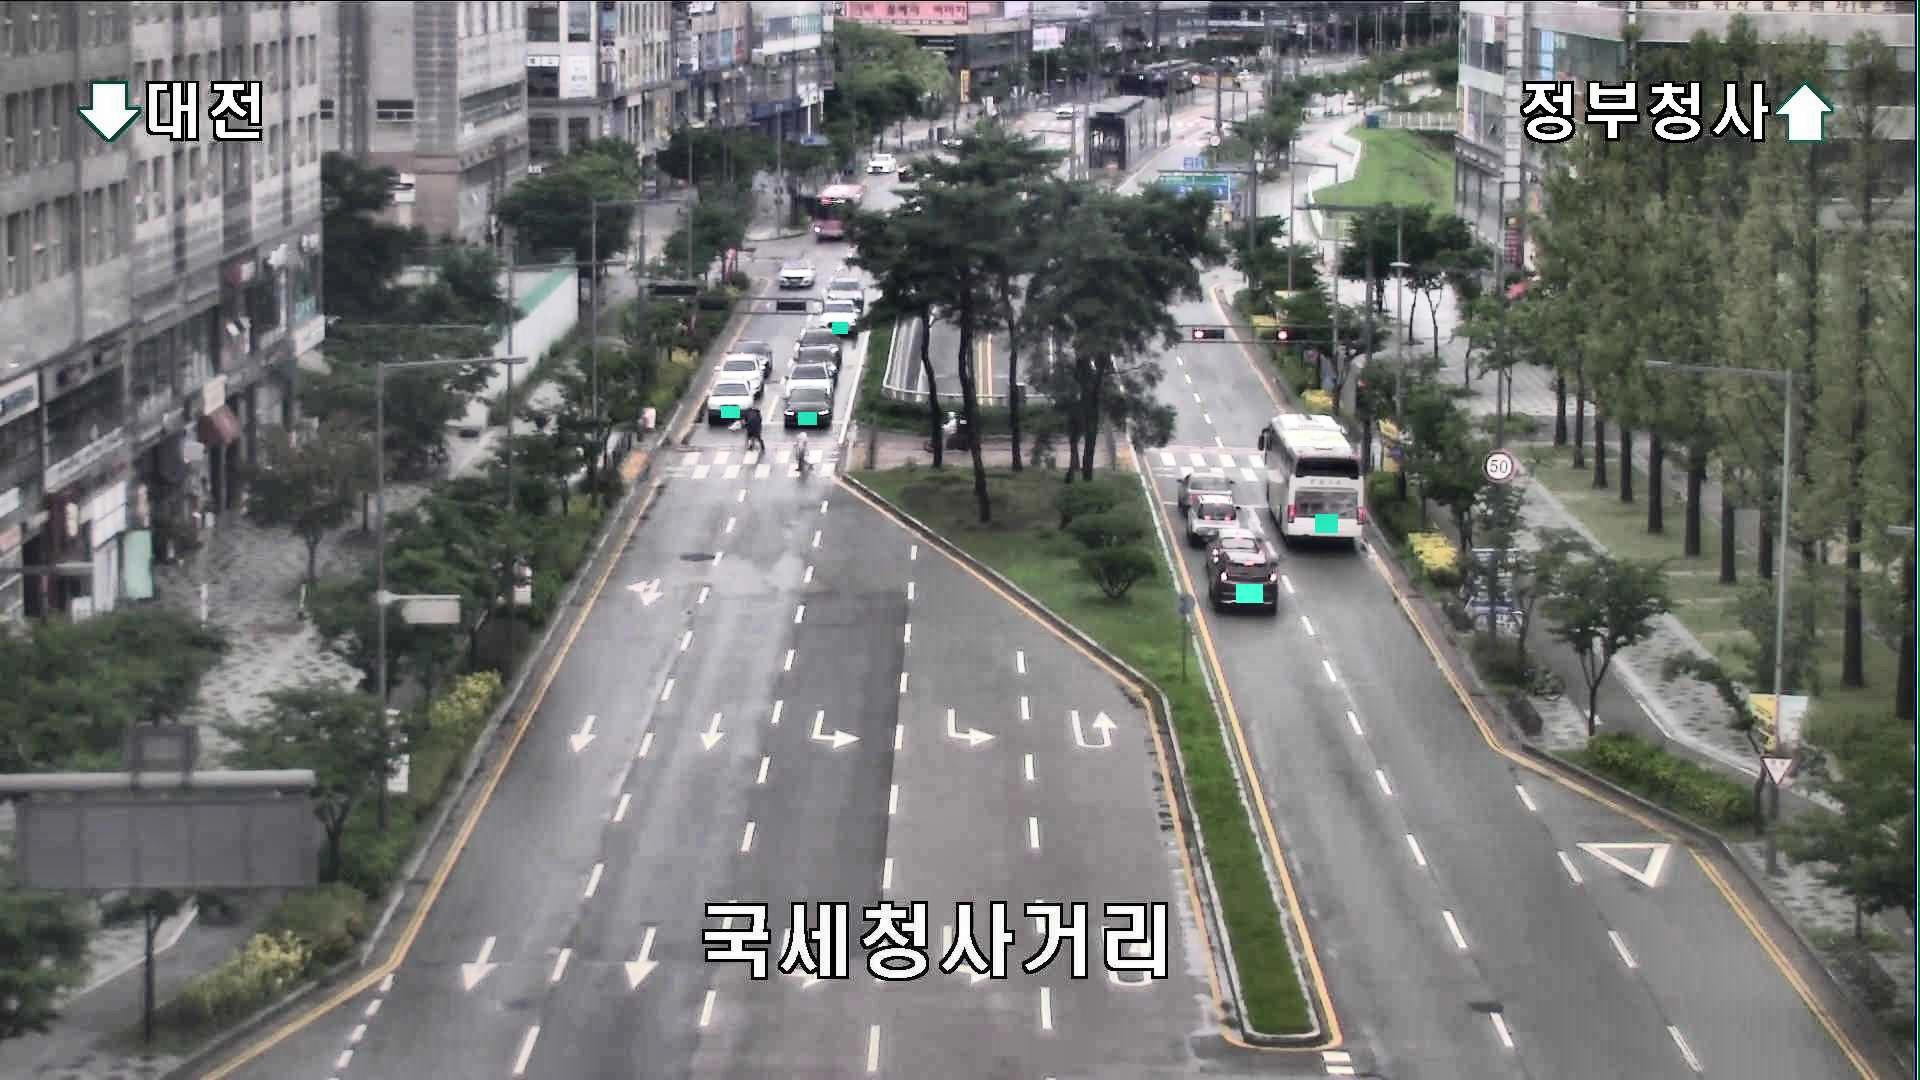crosswalk: (789, 422, 814, 473), (740, 407, 765, 454)
